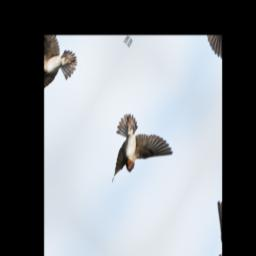Swallow: (94, 101, 176, 214)
